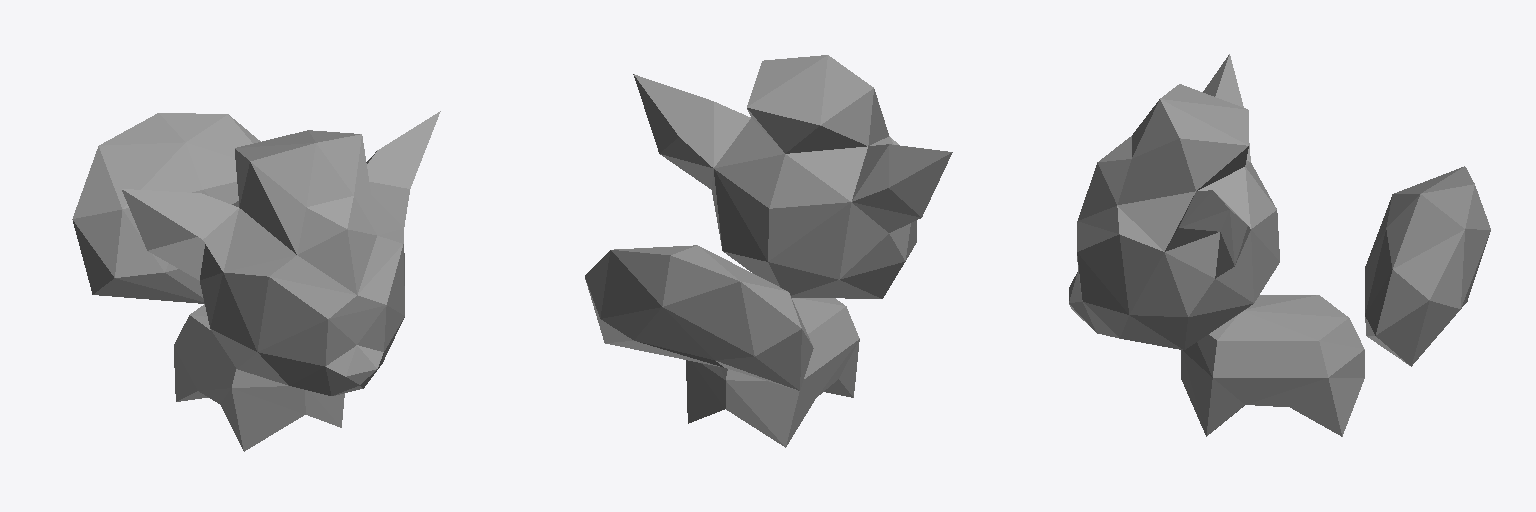
Rendered from zyugon.obj.
The picture shows the model from 3 angles: view 1: azimuth 30°, elevation 25°; view 2: azimuth 150°, elevation 25°; view 3: azimuth 270°, elevation 25°; orthographic projection.
Visible parts, largest first — view 1: md5mesh.003_md5mesh.007; view 2: md5mesh.003_md5mesh.007; view 3: md5mesh.003_md5mesh.007.
Boxes of the visible parts, x1=… form: md5mesh.003_md5mesh.007: x1=72, y1=111, x2=440, y2=451; md5mesh.003_md5mesh.007: x1=585, y1=55, x2=952, y2=447; md5mesh.003_md5mesh.007: x1=1069, y1=54, x2=1490, y2=436.
Bounding box in the file's own units: 0.6377 × 0.5991 × 0.73.